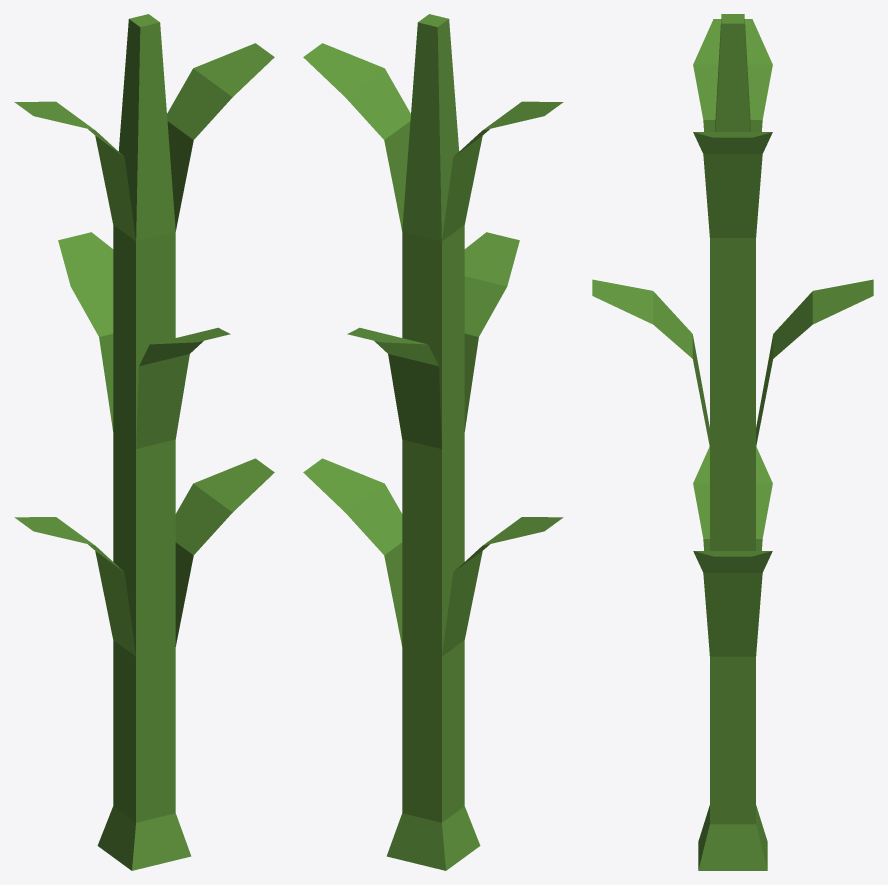
The model's file is crops_cornStageB.glb.
3 renders of one model, left to right at view 1: azimuth 30°, elevation 25°; view 2: azimuth 150°, elevation 25°; view 3: azimuth 270°, elevation 25°, orthographic.
Visible parts, largest first — view 1: crops_cornStageB; view 2: crops_cornStageB; view 3: crops_cornStageB.
Boxes of the visible parts, x1,y1,x2,y2 form: crops_cornStageB: (14, 14, 274, 870); crops_cornStageB: (303, 14, 563, 870); crops_cornStageB: (592, 14, 873, 870).
Bounding box in the file's own units: 0.3042 × 1 × 0.3042.
